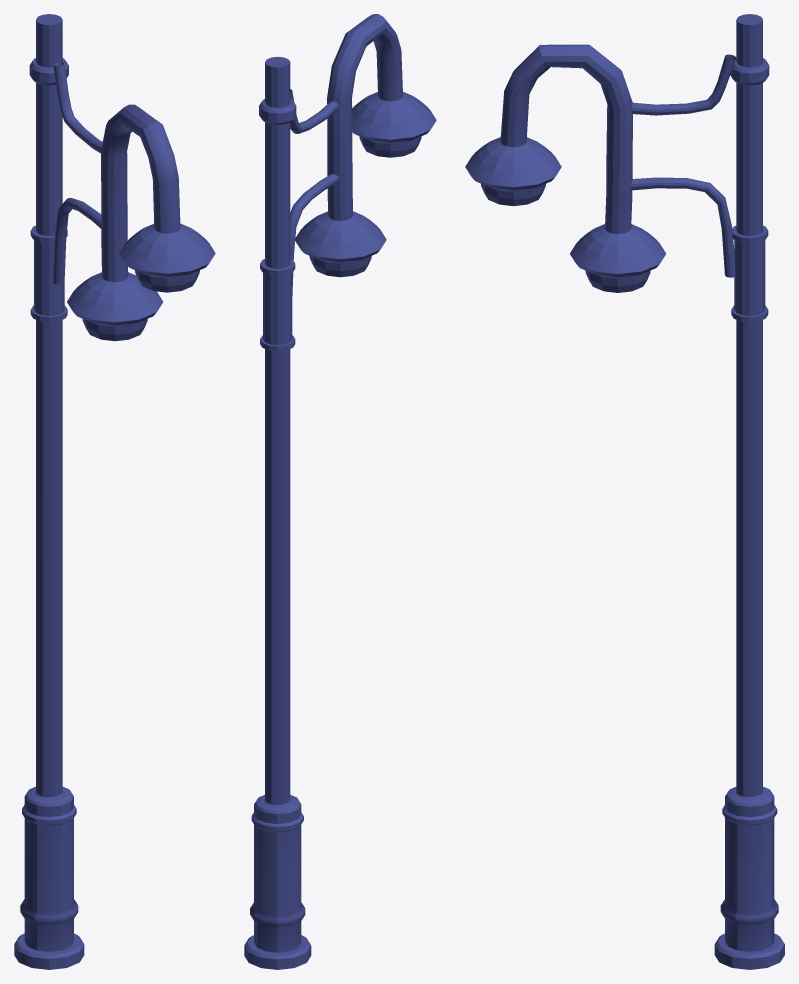
The model's file is model_StreetLamp_low.fbx.
3 renders of one model, left to right at view 1: azimuth 30°, elevation 25°; view 2: azimuth 150°, elevation 25°; view 3: azimuth 270°, elevation 25°, orthographic. The views are drawn at different scales.
Visible parts, largest first — view 1: pilar, Ubar, lamp2, lamp, bar2, bar1; view 2: pilar, Ubar, lamp, lamp2, bar2, bar1; view 3: pilar, Ubar, lamp2, lamp, bar2, bar1.
Part boxes in pixels (left/top/right/bottom): pilar: left=14, top=14, right=84, bottom=969; Ubar: left=101, top=104, right=180, bottom=282; lamp2: left=119, top=223, right=215, bottom=292; lamp: left=67, top=272, right=163, bottom=341; bar2: left=53, top=198, right=101, bottom=284; bar1: left=53, top=62, right=102, bottom=153; pilar: left=244, top=56, right=311, bottom=969; Ubar: left=327, top=14, right=402, bottom=220; lamp: left=295, top=211, right=386, bottom=277; lamp2: left=352, top=92, right=436, bottom=157; bar2: left=290, top=174, right=339, bottom=295; bar1: left=290, top=89, right=338, bottom=133; pilar: left=714, top=14, right=784, bottom=969; Ubar: left=500, top=44, right=632, bottom=233; lamp2: left=465, top=137, right=561, bottom=206; lamp: left=570, top=224, right=666, bottom=292; bar2: left=631, top=177, right=735, bottom=277; bar1: left=631, top=54, right=735, bottom=115.
Bounding box in the file's own units: 29.01 × 310 × 95.89.
